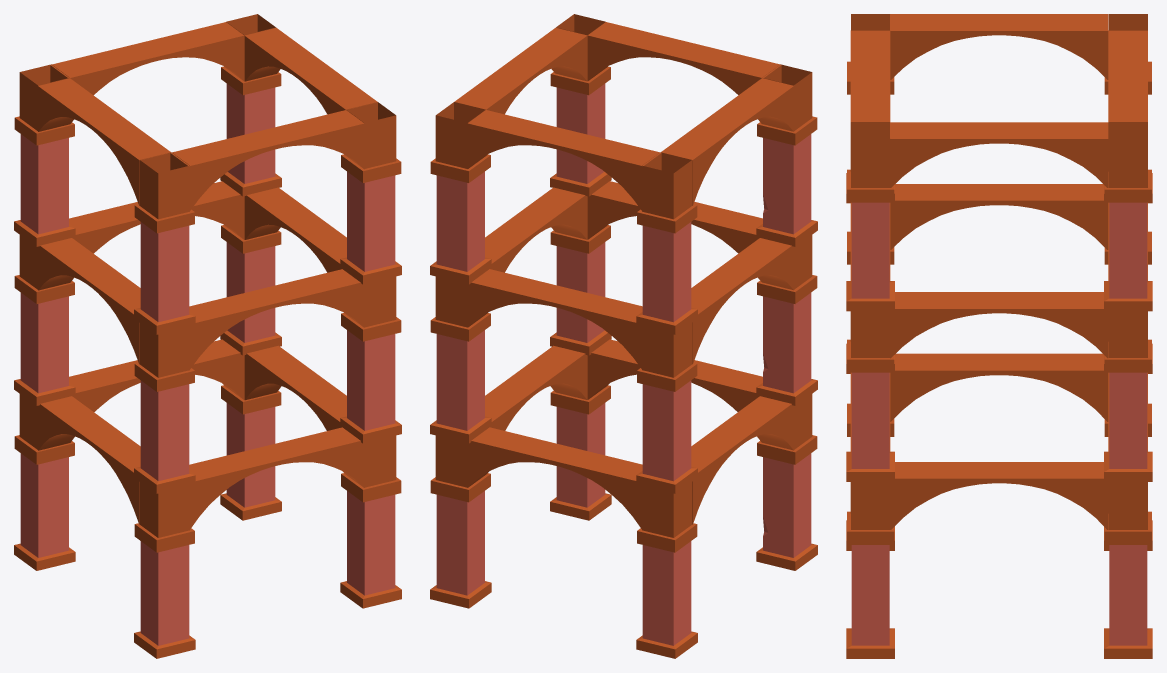
The model's file is Lalibela Post.fbx.
The picture shows the model from 3 angles, left to right: view 1: azimuth 30°, elevation 25°; view 2: azimuth 150°, elevation 25°; view 3: azimuth 270°, elevation 25°; orthographic projection. The views are drawn at different scales.
Parts seen in each view (by area): view 1: Lalibela_Post; view 2: Lalibela_Post; view 3: Lalibela_Post.
Boxes of the visible parts, bbox=[...] form: Lalibela_Post: bbox=[14, 14, 401, 658]; Lalibela_Post: bbox=[430, 14, 817, 658]; Lalibela_Post: bbox=[846, 14, 1152, 658].
Bounding box in the file's own units: 864 × 1627 × 870.
